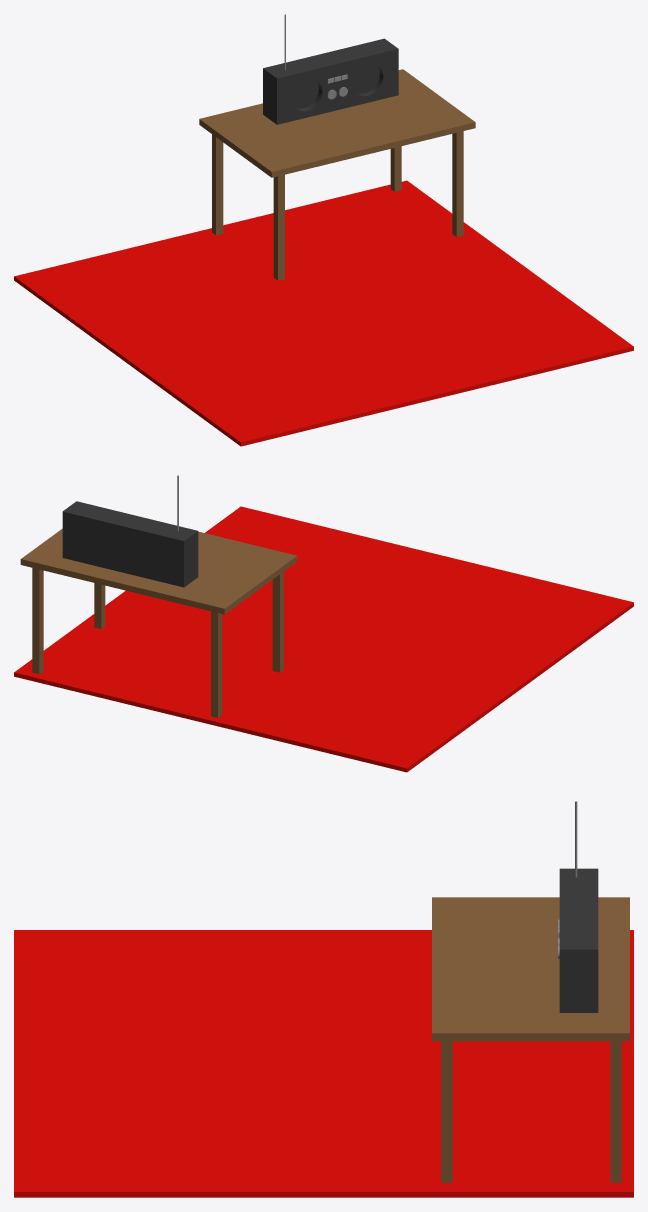
The model's file is funzone.glb.
3 renders of one model, top to bottom at view 1: azimuth 30°, elevation 25°; view 2: azimuth 150°, elevation 25°; view 3: azimuth 270°, elevation 25°, orthographic. The views are drawn at different scales.
Parts seen in each view (by area): view 1: Plan, Cube, Cube.002, Cube.001; view 2: Plan, Cube, Cube.002, Cube.001; view 3: Plan, Cube, Cube.002, Cube.001.
Boxes of the visible parts, x1,y1,x2,y2 form: Plan: [14, 180, 633, 446]; Cube: [199, 69, 475, 177]; Cube.002: [263, 38, 398, 124]; Cube.001: [212, 131, 463, 280]; Plan: [14, 506, 633, 772]; Cube: [20, 528, 297, 614]; Cube.002: [62, 501, 198, 587]; Cube.001: [32, 568, 283, 717]; Plan: [14, 930, 633, 1197]; Cube: [432, 897, 629, 1041]; Cube.002: [559, 868, 598, 1012]; Cube.001: [441, 1041, 621, 1182].
Size of the model in its own units: 6.26 by 3.35 by 6.26.
